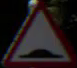Speed Breaker ahead: (13, 6, 68, 59)
